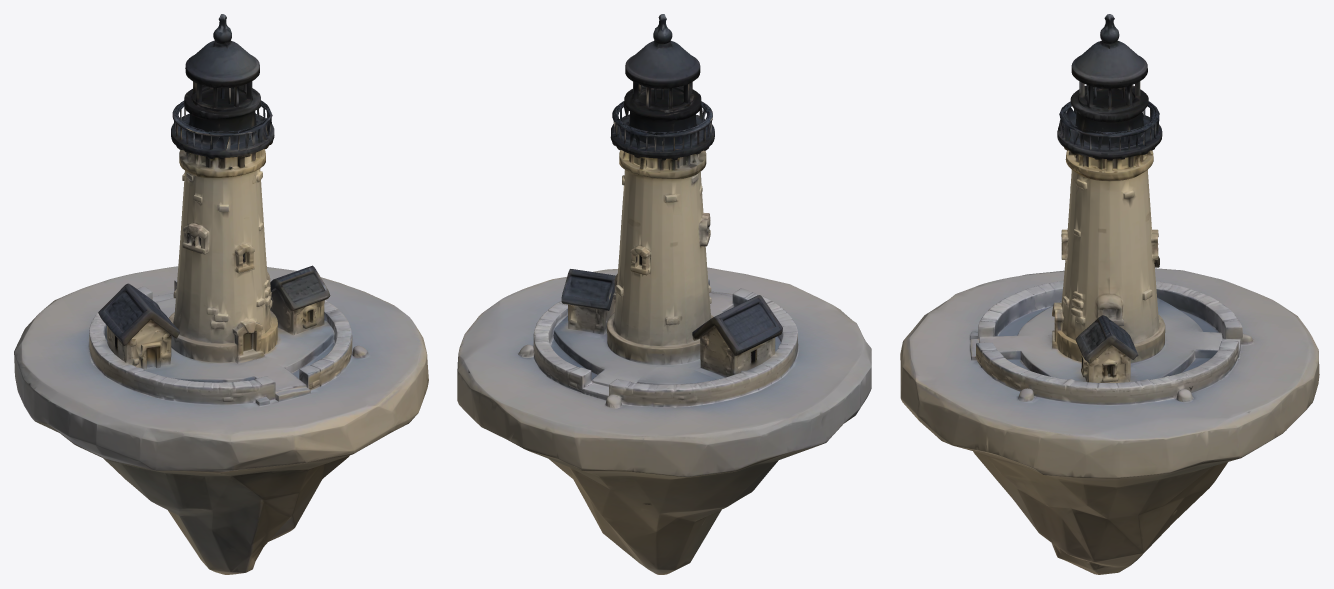
Rendered from lighthouse.glb.
The picture shows the model from 3 angles, left to right: view 1: azimuth 30°, elevation 25°; view 2: azimuth 150°, elevation 25°; view 3: azimuth 270°, elevation 25°; orthographic projection.
Parts seen in each view (by area): view 1: node_0; view 2: node_0; view 3: node_0.
Part boxes in pixels (x1=…): node_0: x1=14, y1=14, x2=428, y2=574; node_0: x1=457, y1=14, x2=871, y2=574; node_0: x1=900, y1=14, x2=1319, y2=574.
Bounding box in the file's own units: 0.8033 × 1.2 × 0.8138.
Materials: 1 (1 with a texture image).
